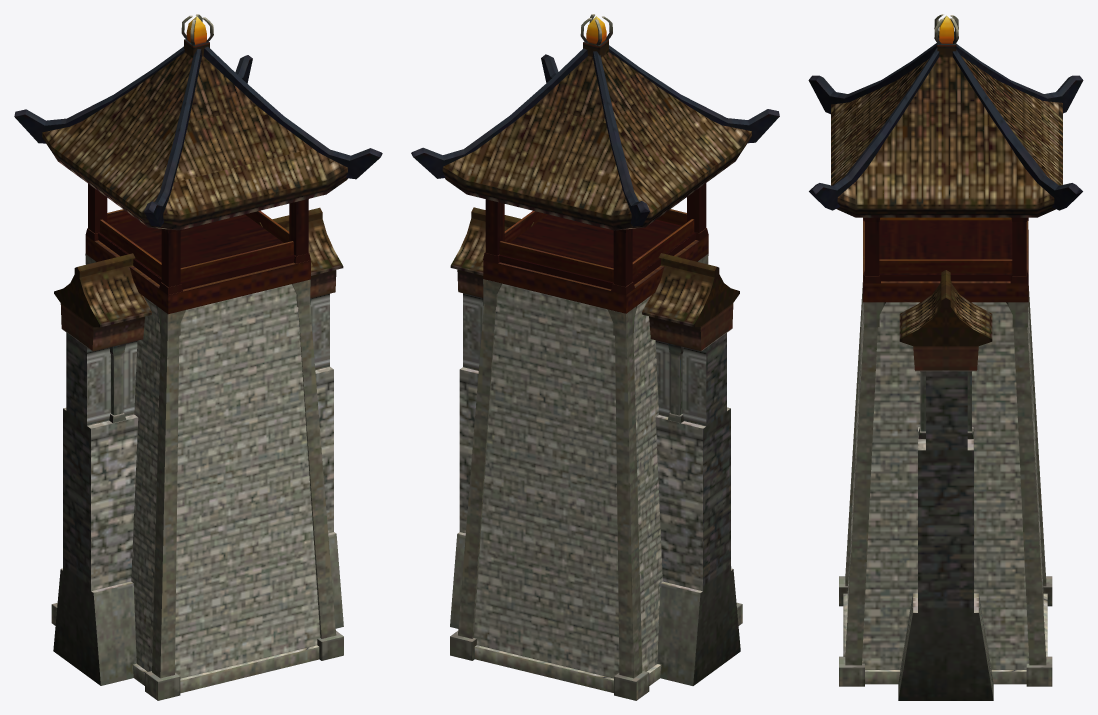
File: b1-middledam-07.glb
The picture shows the model from 3 angles, left to right: view 1: azimuth 30°, elevation 25°; view 2: azimuth 150°, elevation 25°; view 3: azimuth 270°, elevation 25°; orthographic projection.
Visible parts, largest first — view 1: b1-middledam-03, b1-middledam-02, b1-middledam-04; view 2: b1-middledam-03, b1-middledam-02, b1-middledam-04; view 3: b1-middledam-03, b1-middledam-02, b1-middledam-04.
Boxes of the visible parts, bbox=[...] form: b1-middledam-03: bbox=[42, 14, 347, 700]; b1-middledam-02: bbox=[53, 207, 343, 685]; b1-middledam-04: bbox=[14, 46, 382, 314]; b1-middledam-03: bbox=[442, 14, 751, 700]; b1-middledam-02: bbox=[450, 207, 740, 685]; b1-middledam-04: bbox=[411, 45, 779, 313]; b1-middledam-03: bbox=[831, 14, 1062, 686]; b1-middledam-02: bbox=[898, 270, 993, 700]; b1-middledam-04: bbox=[808, 43, 1083, 302].
Bounding box in the file's own units: 5.02 × 12.29 × 4.9.
3 materials, 3 textured.
